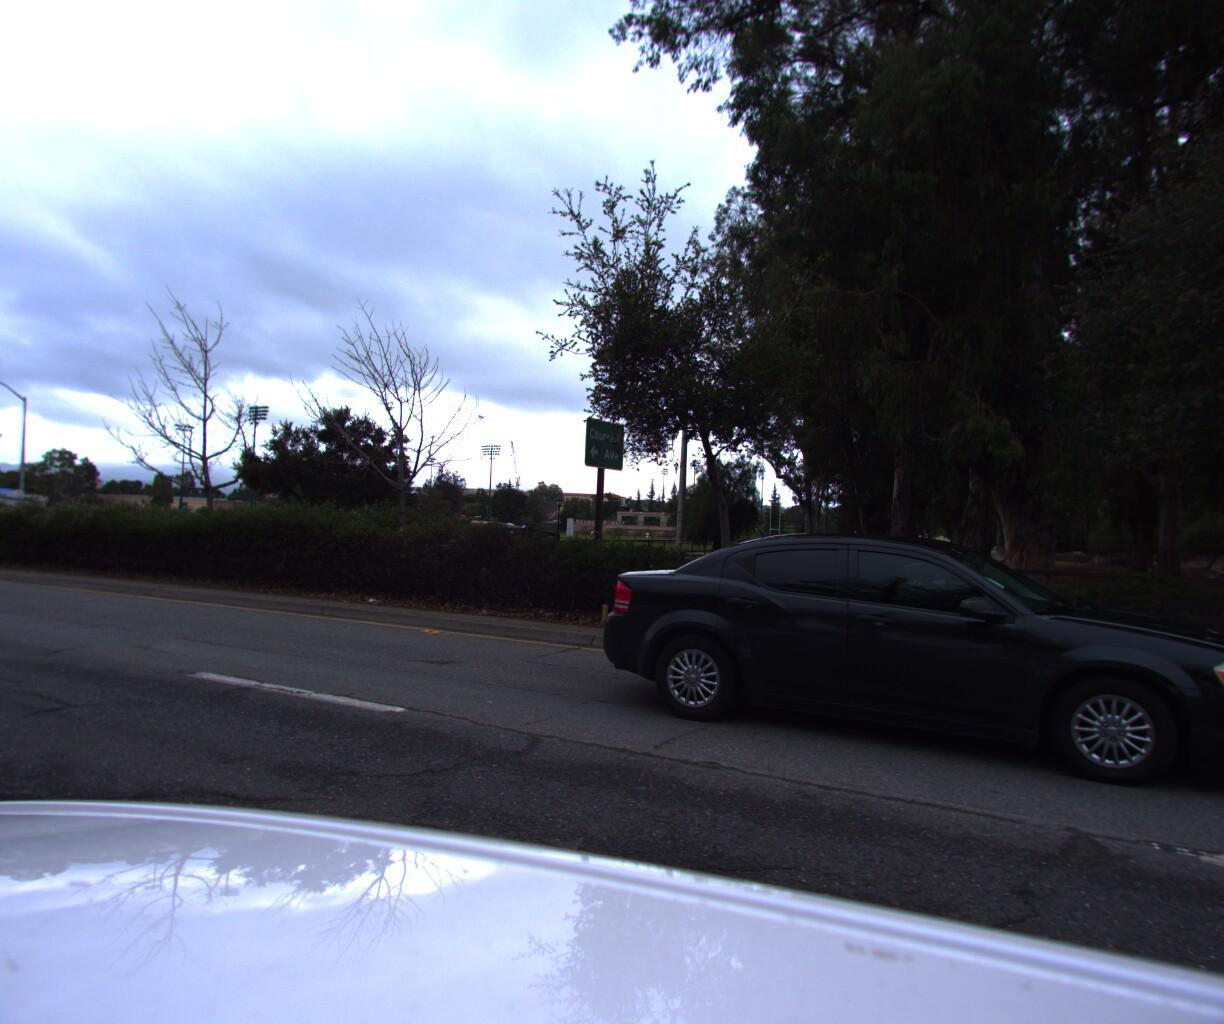car: (574, 526, 1224, 814), (841, 547, 1040, 631), (386, 516, 564, 590)
other_vehicle: (0, 486, 51, 549)
